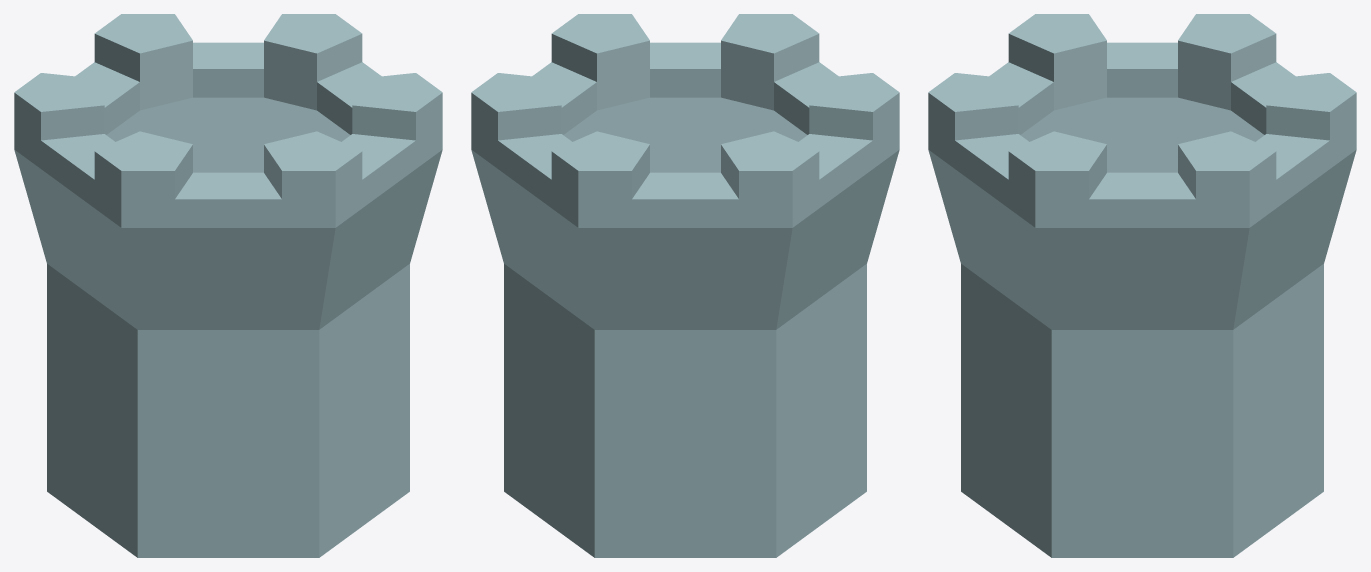
File: unit_wallTower.fbx
The picture shows the model from 3 angles, left to right: view 1: azimuth 30°, elevation 25°; view 2: azimuth 150°, elevation 25°; view 3: azimuth 270°, elevation 25°; orthographic projection.
Visible parts, largest first — view 1: unit_wallTower; view 2: unit_wallTower; view 3: unit_wallTower.
Part boxes in pixels (x1,y1,x2,y2): unit_wallTower: [14, 14, 442, 557]; unit_wallTower: [471, 14, 899, 557]; unit_wallTower: [928, 14, 1356, 557].
Bounding box in the file's own units: 2.95 × 3.5 × 3.41.
